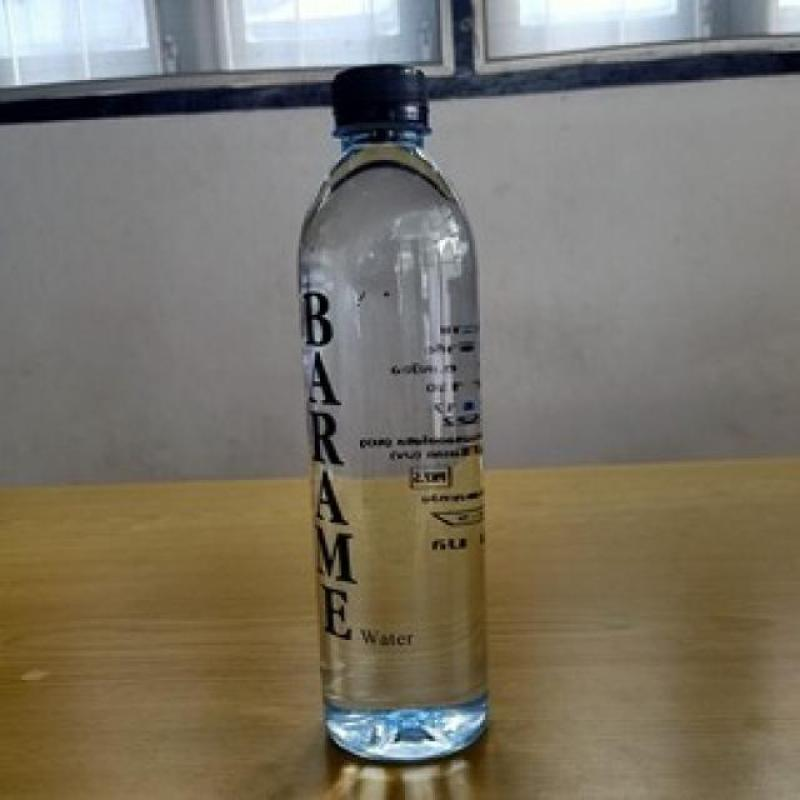botella: (296, 64, 490, 765)
